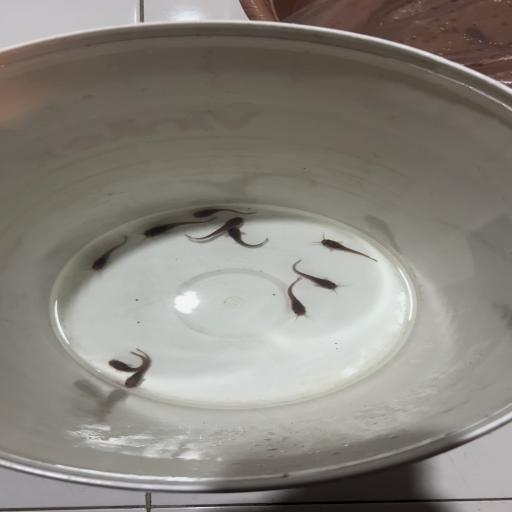lele: (136, 215, 220, 242), (311, 232, 381, 264), (84, 231, 134, 275), (287, 260, 348, 294), (186, 215, 246, 243), (280, 276, 317, 320), (121, 346, 155, 392), (96, 350, 149, 374), (226, 226, 270, 249), (188, 206, 260, 220)
